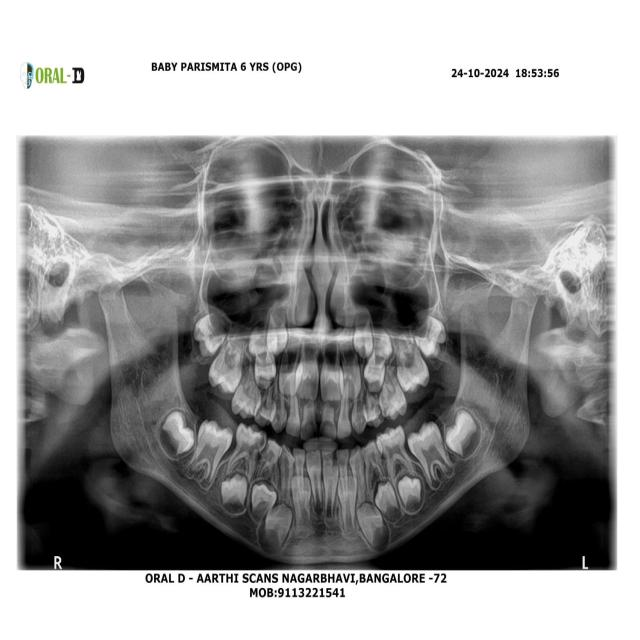Premolars: (361, 438, 391, 500)
